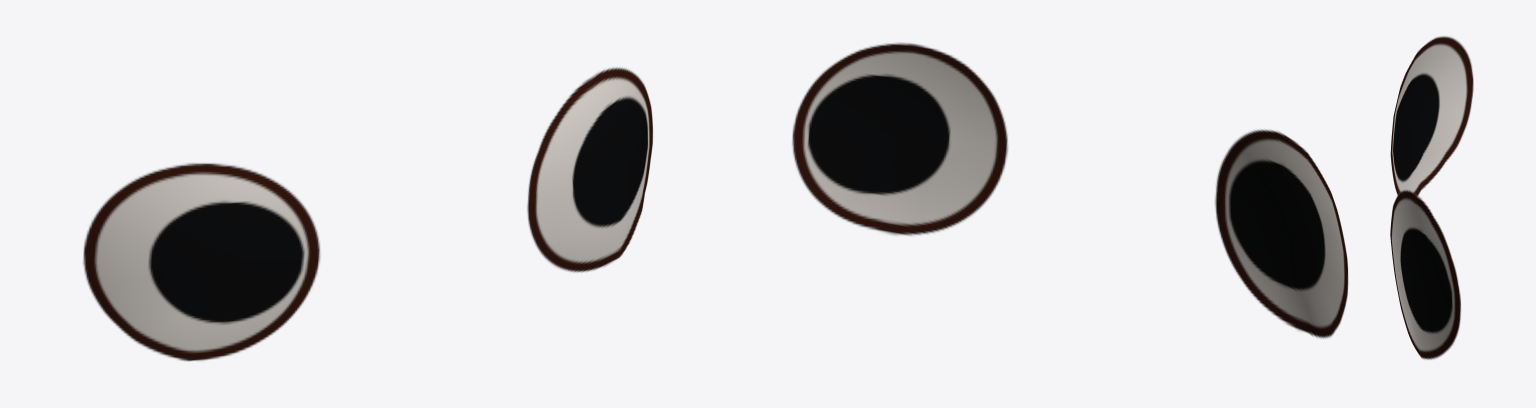
Rendered from eye 02.glb.
3 renders of one model, left to right at view 1: azimuth 30°, elevation 25°; view 2: azimuth 150°, elevation 25°; view 3: azimuth 270°, elevation 25°, orthographic. The views are drawn at different scales.
Parts seen in each view (by area): view 1: Eye_2; view 2: Eye_2; view 3: Eye_2.
Boxes of the visible parts, x1=… form: Eye_2: x1=83, y1=66, x2=652, y2=361; Eye_2: x1=791, y1=42, x2=1348, y2=338; Eye_2: x1=1390, y1=36, x2=1473, y2=359.
Bounding box in the file's own units: 0.00677 × 0.00271 × 0.00151.
1 material, 1 textured.
